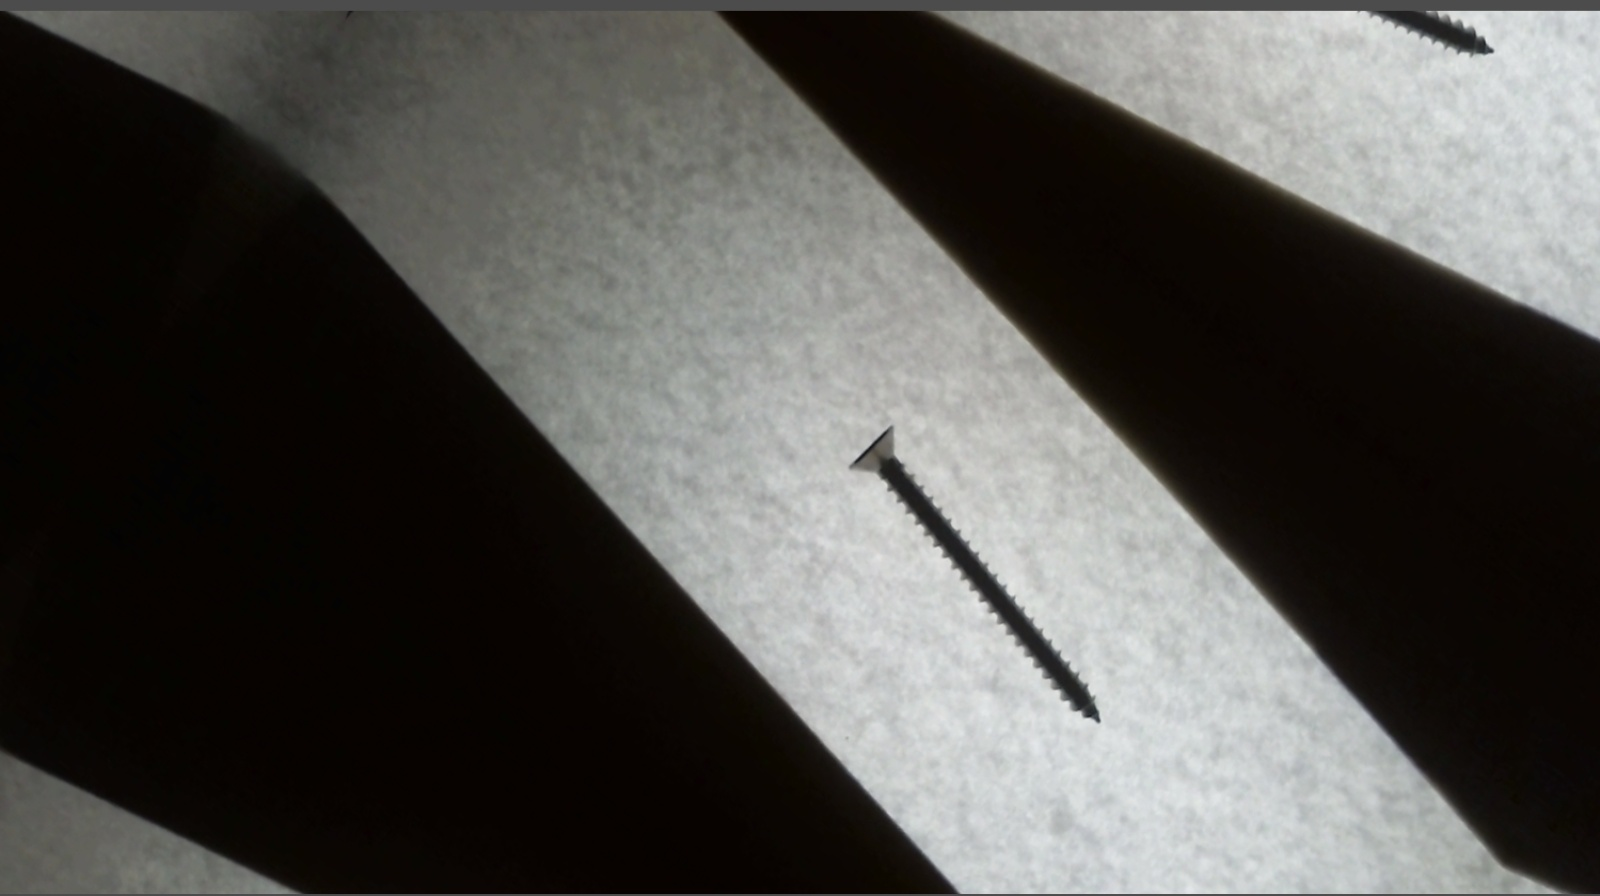S002: (818, 414, 1159, 731)
